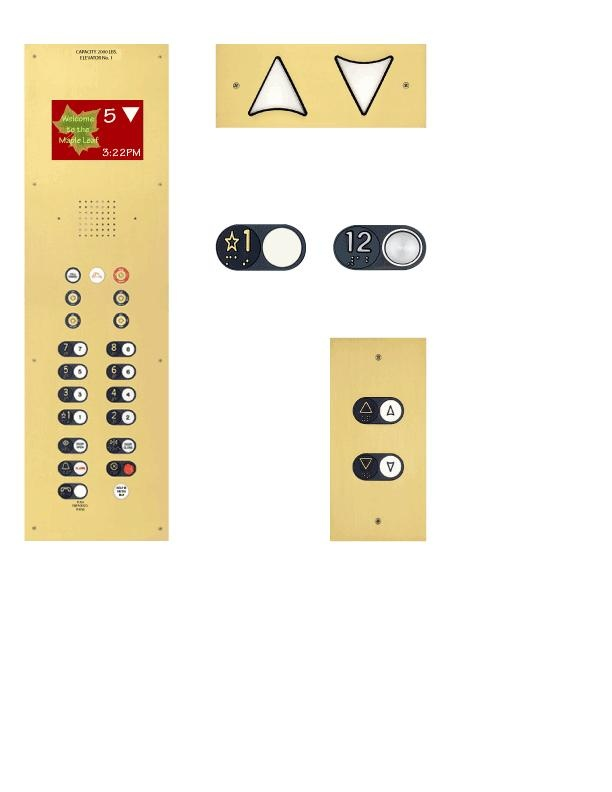12: (329, 220, 428, 272)
2: (104, 407, 136, 425)
3: (56, 384, 88, 403)
4: (104, 385, 136, 403)
5: (56, 361, 88, 380)
6: (104, 362, 136, 380)
7: (56, 339, 89, 358)
8: (104, 339, 136, 357)
alarm: (56, 457, 88, 476)
call: (56, 481, 88, 500)
close: (104, 435, 136, 454)
down: (350, 451, 405, 482)
keyhole: (112, 267, 130, 284), (64, 289, 81, 306), (65, 312, 81, 329), (113, 312, 129, 329), (112, 290, 129, 305)
open: (56, 435, 88, 454)
s1: (212, 221, 312, 273), (56, 406, 88, 425)
stop: (104, 458, 136, 477)
text_blur: (110, 481, 130, 500), (64, 266, 81, 283)
unknown: (89, 267, 105, 283)
up: (350, 394, 404, 425)
